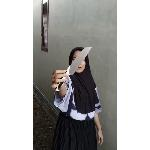Pisau: (54, 44, 94, 94)
